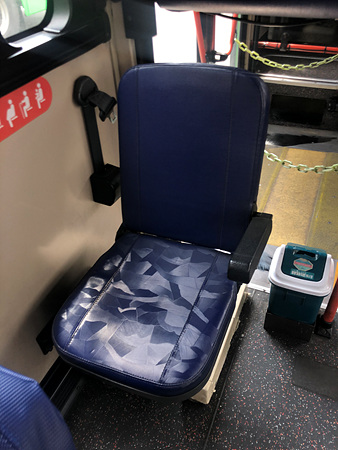seat: (49, 64, 266, 400)
